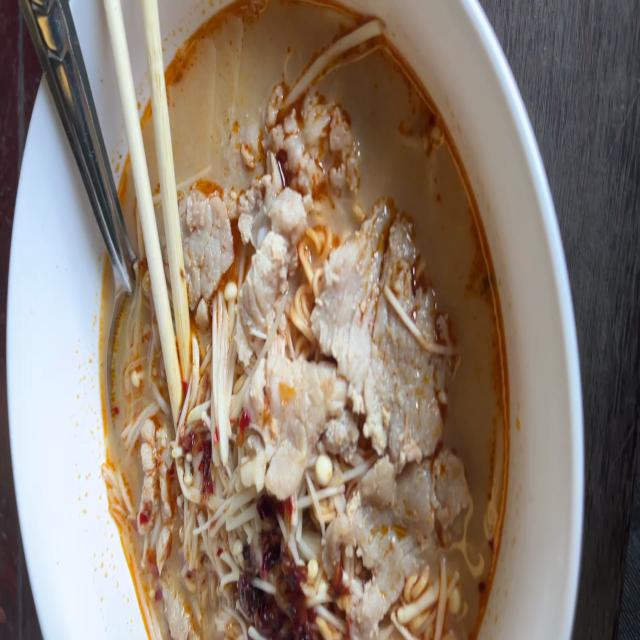noodle: (99, 0, 512, 640)
